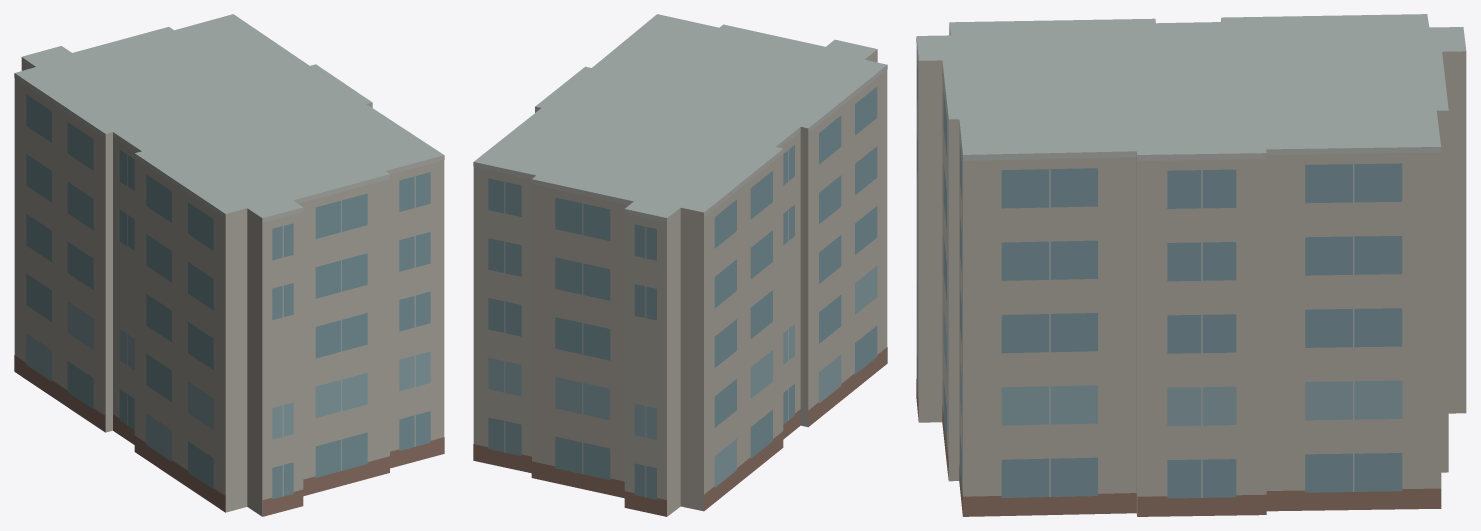
Rendered from survey-upis-32702359.glb.
3 renders of one model, left to right at view 1: azimuth 30°, elevation 25°; view 2: azimuth 150°, elevation 25°; view 3: azimuth 270°, elevation 25°, orthographic. The views are drawn at different scales.
Parts seen in each view (by area): view 1: survey-upis-32702359.tmp; view 2: survey-upis-32702359.tmp; view 3: survey-upis-32702359.tmp.
Boxes of the visible parts, <box> form: survey-upis-32702359.tmp: <box>14,14,444,516</box>; survey-upis-32702359.tmp: <box>473,14,887,516</box>; survey-upis-32702359.tmp: <box>916,14,1466,516</box>.
Size of the model in its own units: 12.67 by 15.15 by 20.87.
